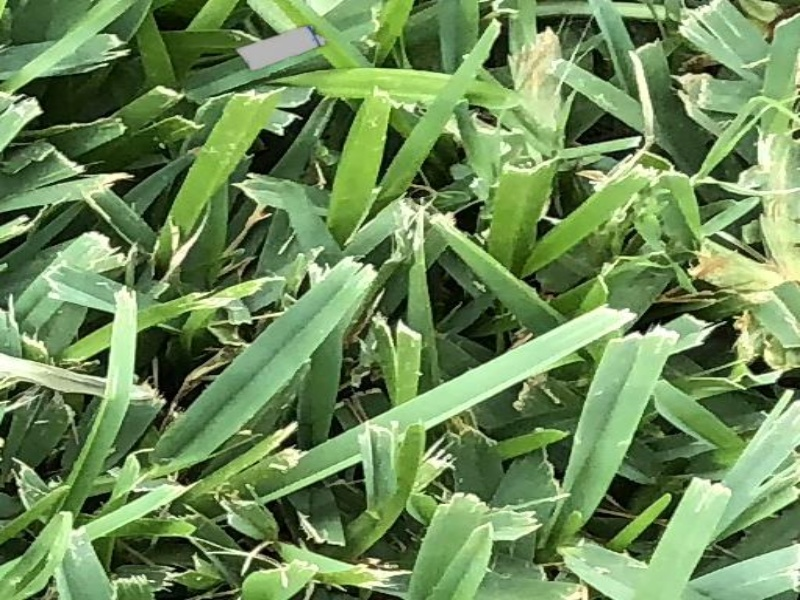cig: (233, 24, 322, 66)
